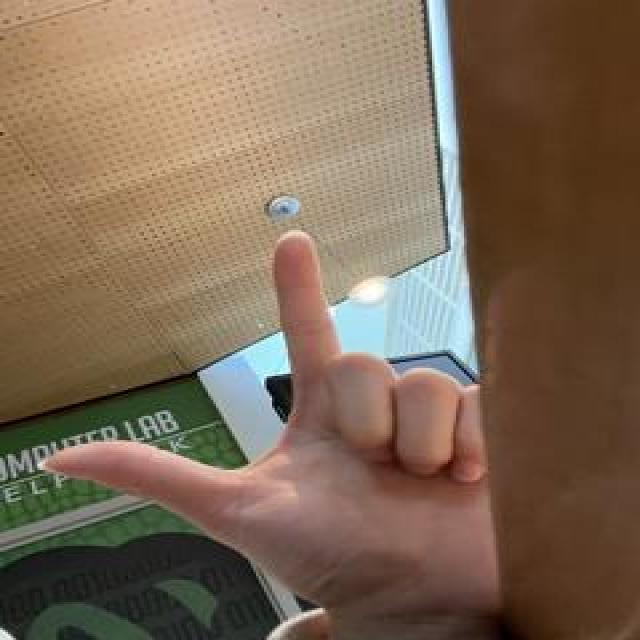L: (15, 180, 537, 604)
